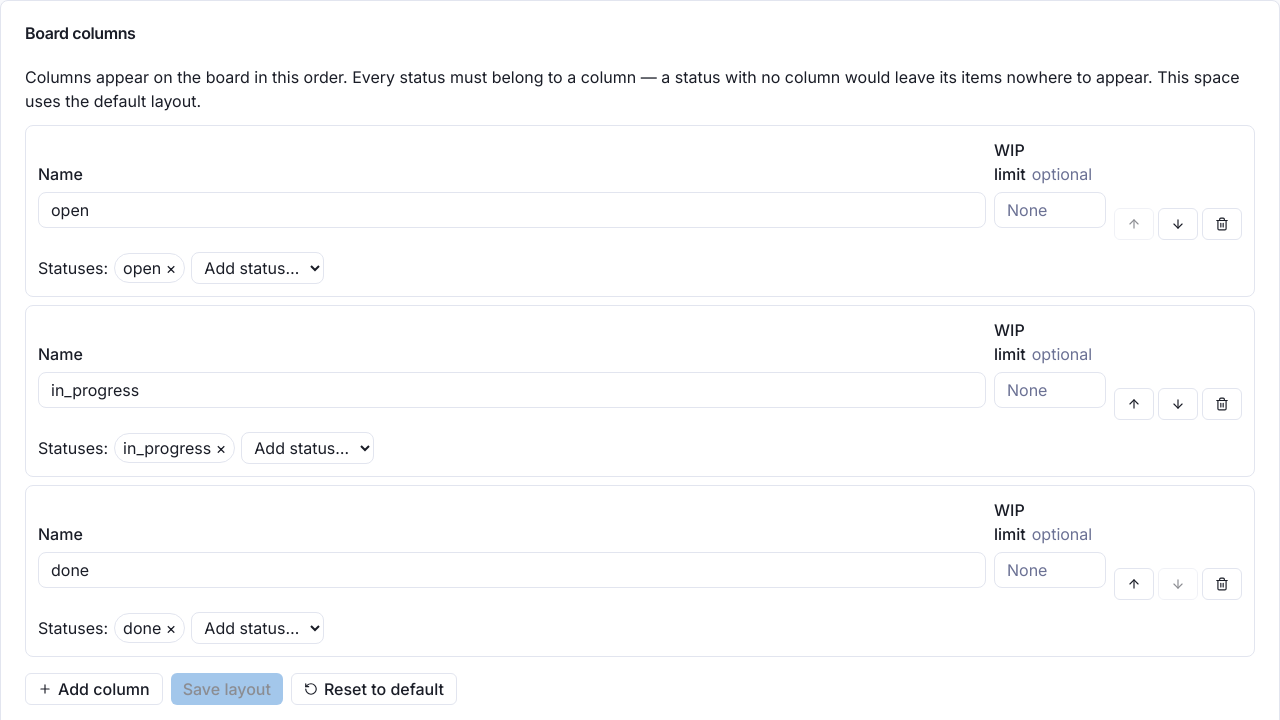
Test: BoardConfigSection › blocks the save while a status has no column
What coordinates should you click on to do the following:
click the button with aria-label "Remove done from done"
I would click on:
 (150, 628)
Its box is [114, 613, 185, 643].
(page scrolled)
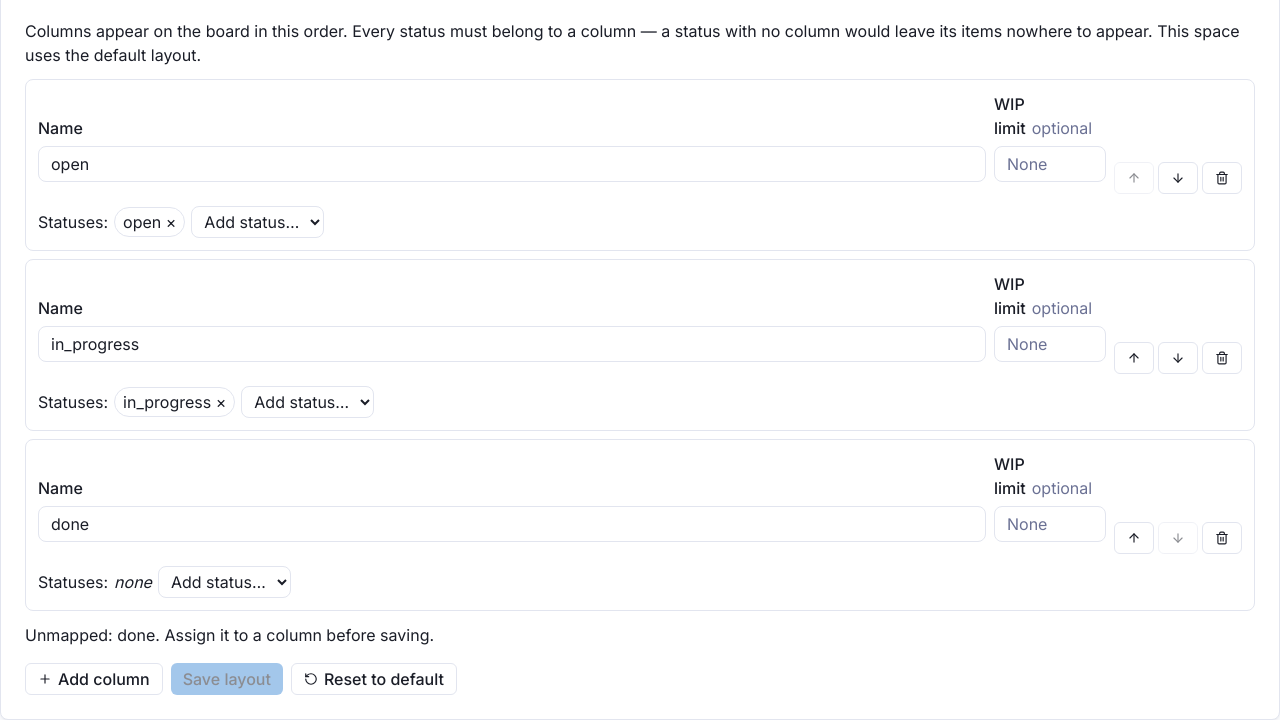
Expected: the button with test id "board-config-save" is disabled, [171, 663, 283, 695]
Expected: the text with test id "board-config-unmapped" shows "done", [117, 625, 155, 645]
